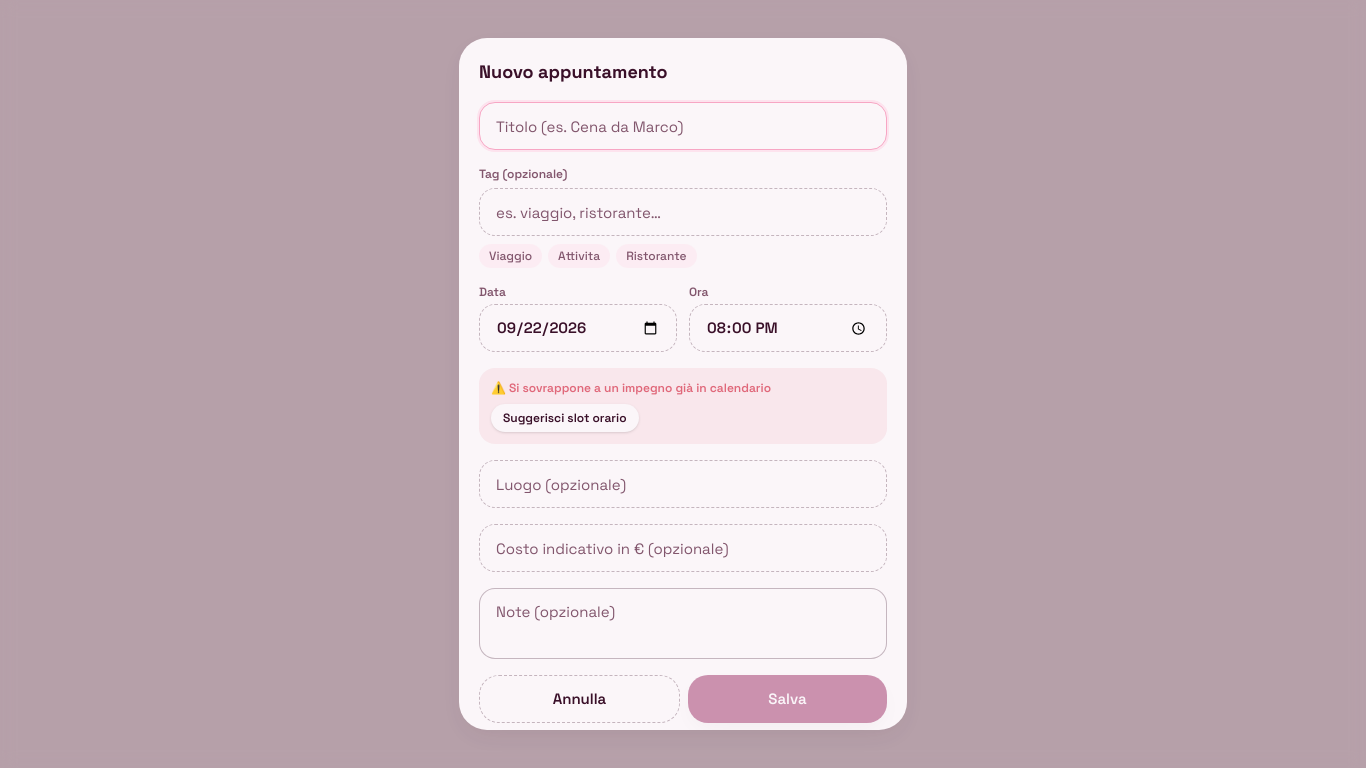
Test: AppointmentFormModal — modalità 'confermato' (con data/ora): controllo automatico di sovrapposizione › 'Suggerisci slot orario' espande i chip di durata (stesso blocco condiviso SlotSuggestions)
Expected: the text "⚠️ Si sovrappone a un impegno già in calendario" is shown, [491,380,771,396]
Click the button "Suggerisci slot orario" at (565, 418), box [491,404,638,432]
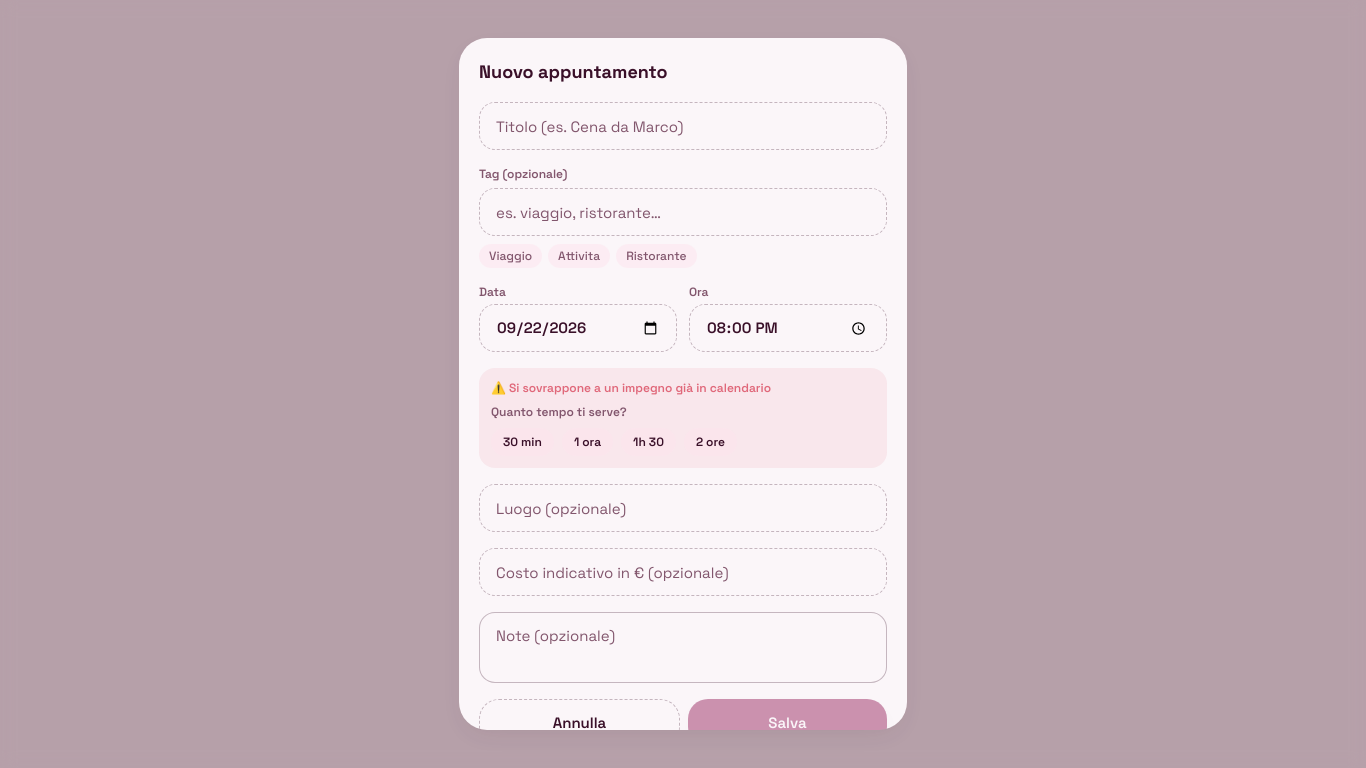
Expected: the text "Quanto tempo ti serve?" is shown, [491,404,627,420]
